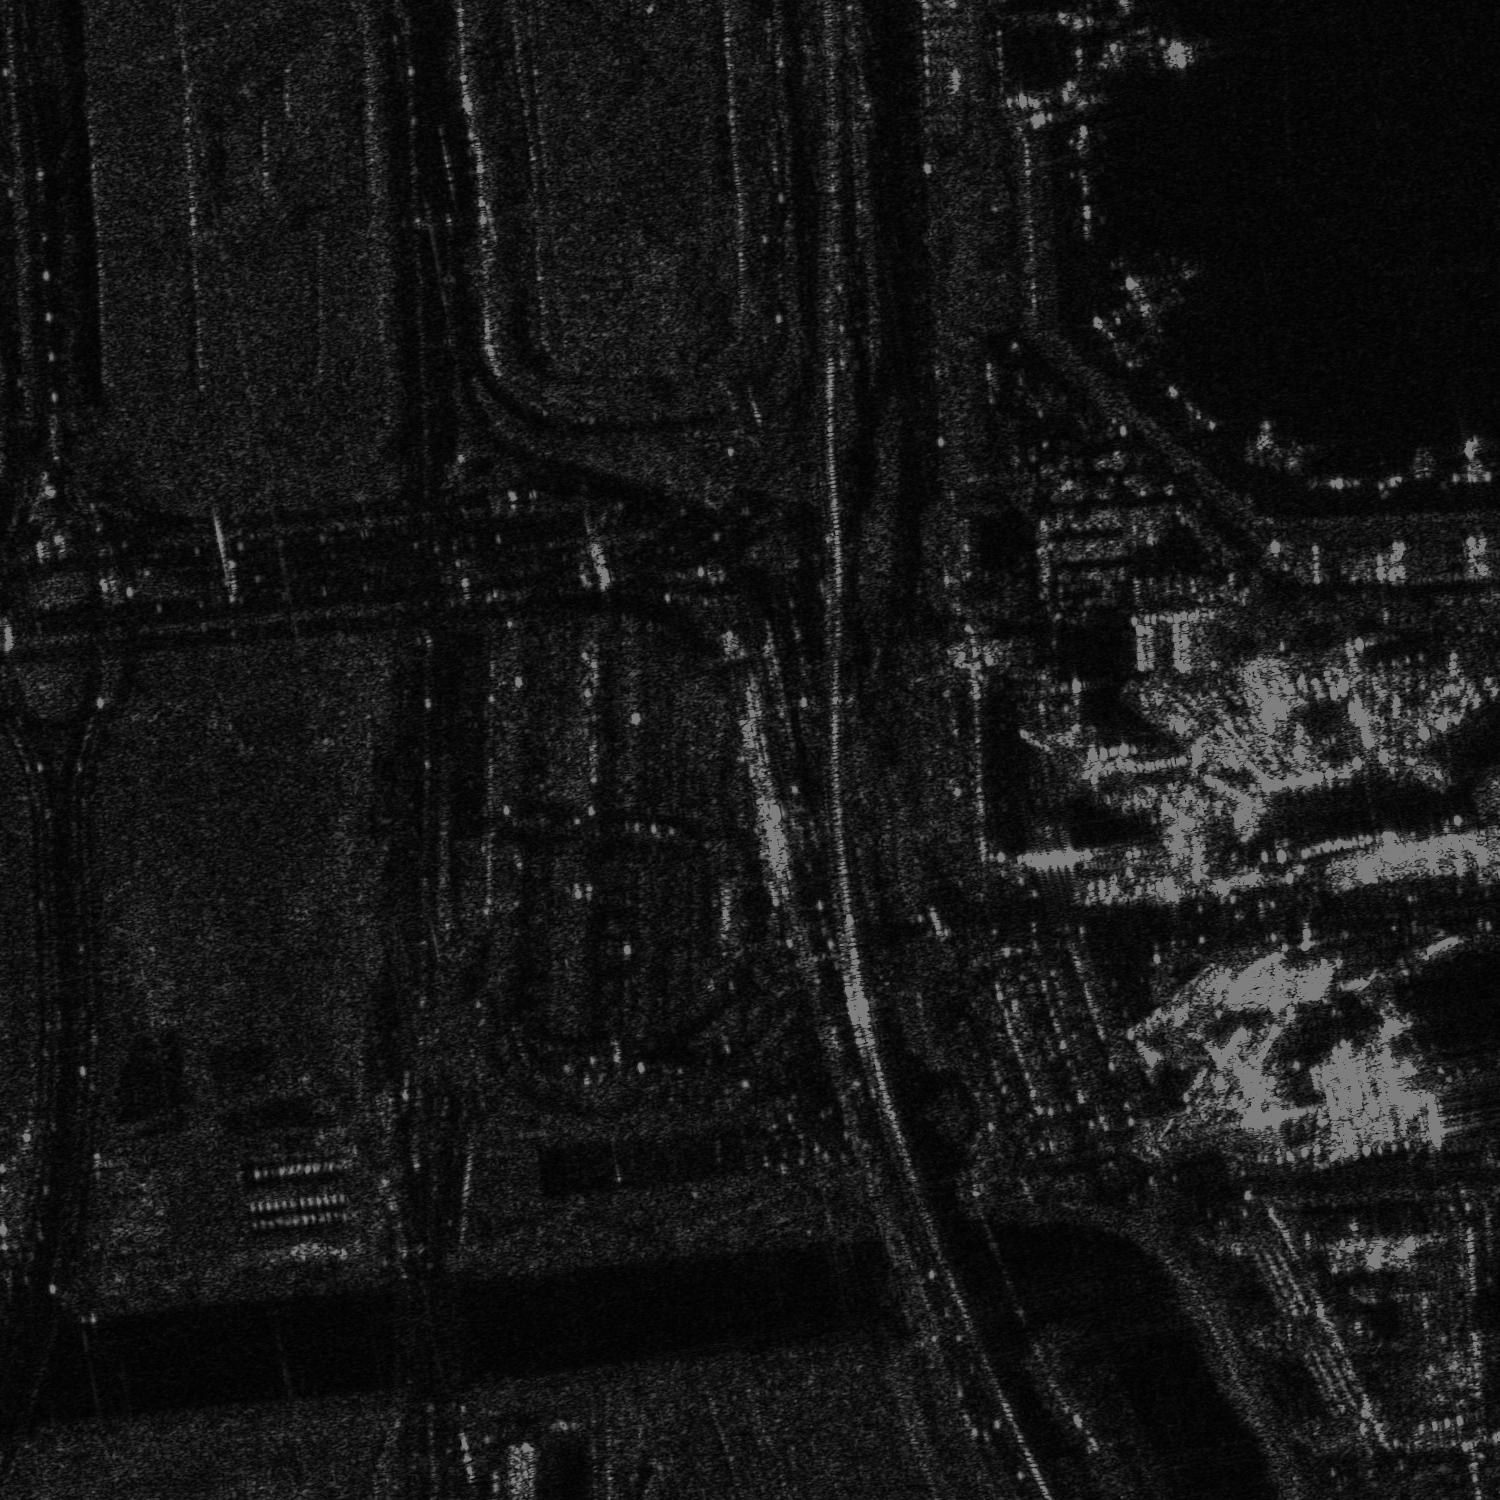A220: (1111, 261, 1201, 335)
